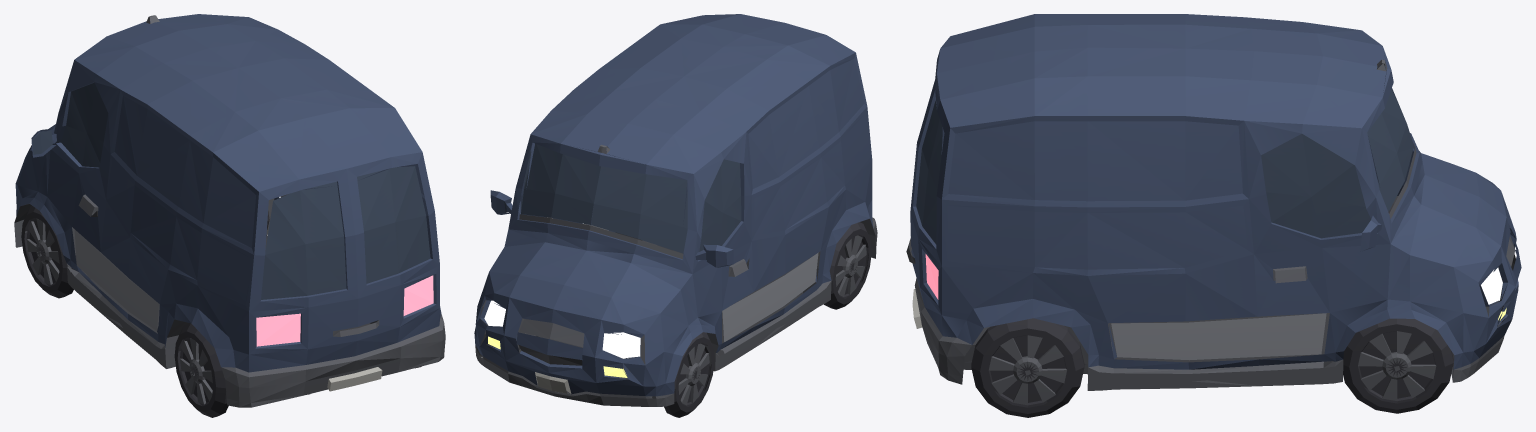
Rendered from car_van_navy.glb.
3 renders of one model, left to right at view 1: azimuth 30°, elevation 25°; view 2: azimuth 150°, elevation 25°; view 3: azimuth 270°, elevation 25°, orthographic. The views are drawn at different scales.
Visible parts, largest first — view 1: car_van_navy; view 2: car_van_navy; view 3: car_van_navy.
Part boxes in pixels (<box>): car_van_navy: <box>14,14,445,417</box>; car_van_navy: <box>474,14,877,417</box>; car_van_navy: <box>906,14,1521,417</box>.
Size of the model in its own units: 2.8 by 2.8 by 5.
